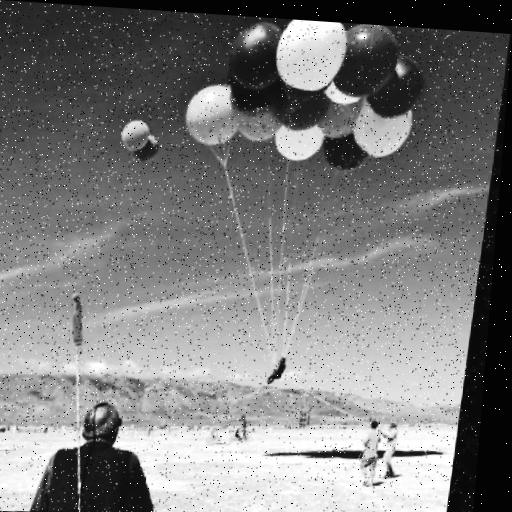balloon: (264, 18, 363, 110), (216, 15, 296, 100), (331, 23, 405, 113), (177, 81, 256, 157), (363, 52, 432, 131), (352, 98, 421, 169), (269, 75, 338, 132), (265, 113, 334, 170), (319, 128, 376, 182), (224, 77, 286, 122), (314, 95, 368, 146), (233, 99, 288, 146), (117, 113, 157, 158), (128, 132, 168, 166)
